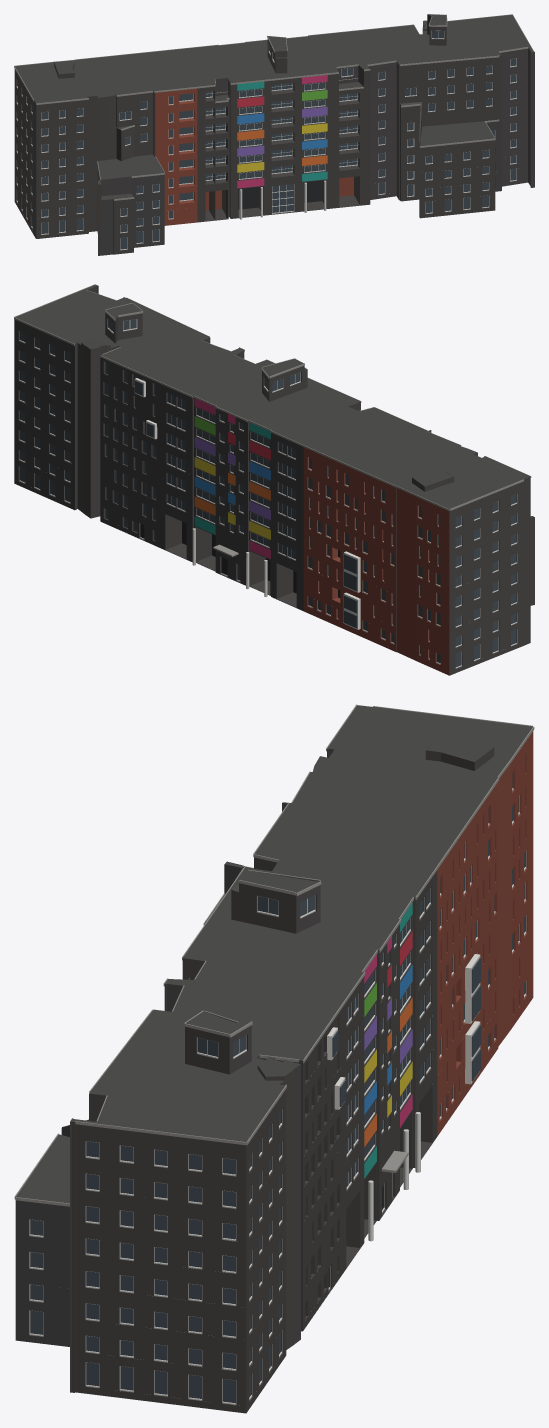
Rendered from sumatrakade-1101.glb.
3 views of the same model, one above another, from view 1: azimuth 30°, elevation 25°; view 2: azimuth 150°, elevation 25°; view 3: azimuth 270°, elevation 25° (orthographic). The views are drawn at different scales.
Parts seen in each view (by area): view 1: sumatrakade-1101; view 2: sumatrakade-1101; view 3: sumatrakade-1101.
Part boxes in pixels (bbox=[...]): sumatrakade-1101: bbox=[14, 14, 534, 255]; sumatrakade-1101: bbox=[14, 284, 534, 675]; sumatrakade-1101: bbox=[14, 704, 534, 1413].
Bounding box in the file's own units: 82.59 × 27.45 × 41.4.
